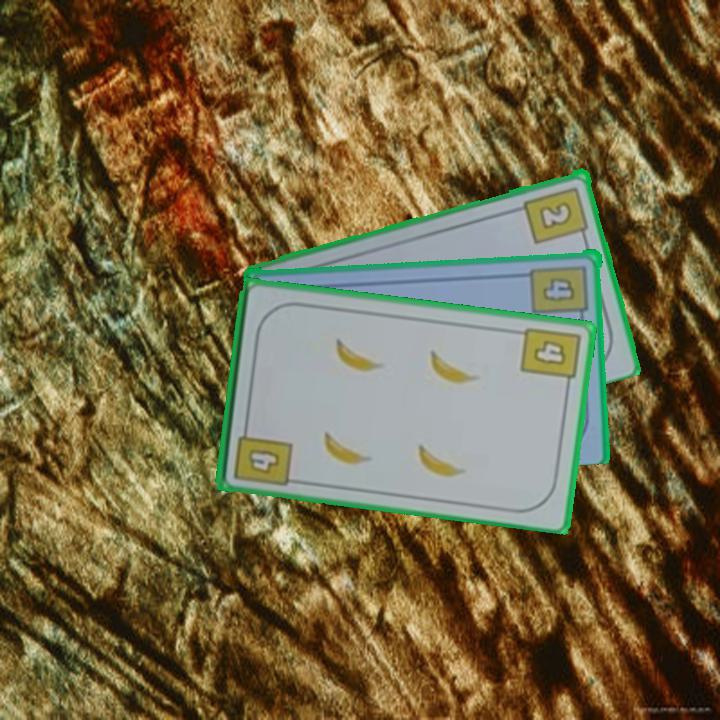2b: (521, 183, 592, 247)
4b: (230, 418, 295, 489), (517, 323, 583, 392), (528, 261, 592, 323)
